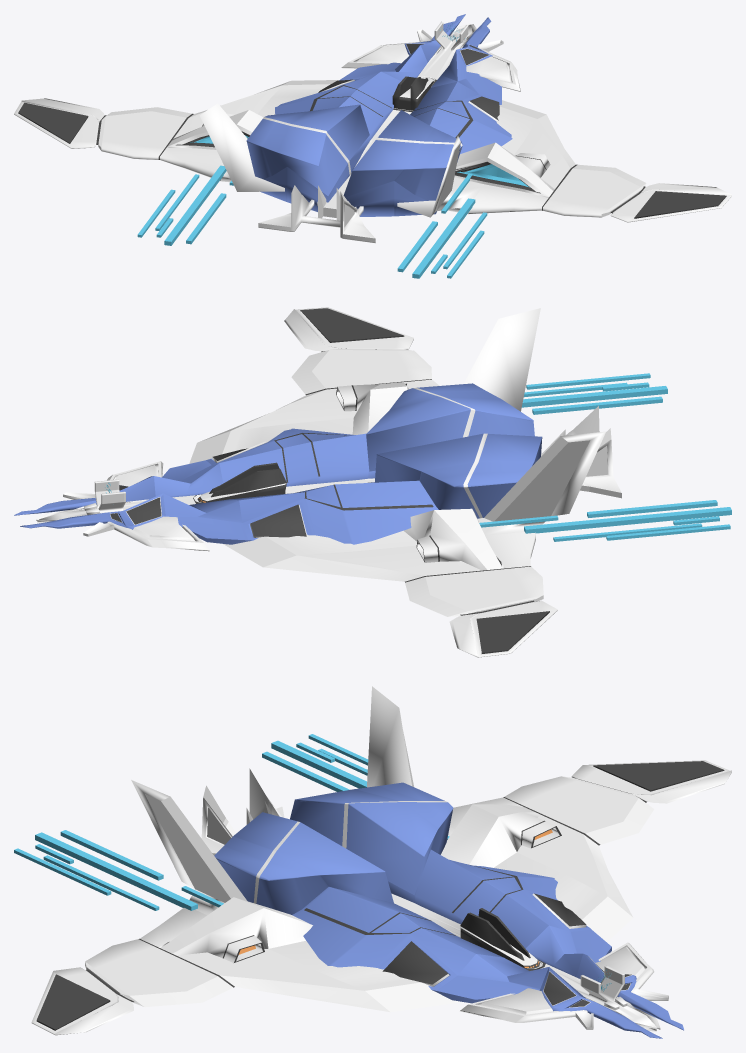
File: nave2.fbx
3 views of the same model, one above another, from view 1: azimuth 30°, elevation 25°; view 2: azimuth 150°, elevation 25°; view 3: azimuth 270°, elevation 25° (orthographic). The views are drawn at different scales.
Visible parts, largest first — view 1: Cube.002, Cube.001, Cube.003; view 2: Cube.002, Cube.001, Cube.003; view 3: Cube.002, Cube.001, Cube.003.
Part boxes in pixels (x1=…): Cube.002: x1=14, y1=21, x2=731, y2=243; Cube.001: x1=246, y1=14, x2=512, y2=216; Cube.003: x1=137, y1=165, x2=487, y2=278; Cube.002: x1=36, y1=307, x2=621, y2=657; Cube.001: x1=14, y1=383, x2=542, y2=544; Cube.003: x1=479, y1=373, x2=731, y2=541; Cube.002: x1=31, y1=686, x2=731, y2=1035; Cube.001: x1=214, y1=782, x2=683, y2=1038; Cube.003: x1=14, y1=734, x2=449, y2=910.
Bounding box in the file's own units: 1880 × 371 × 1923.
